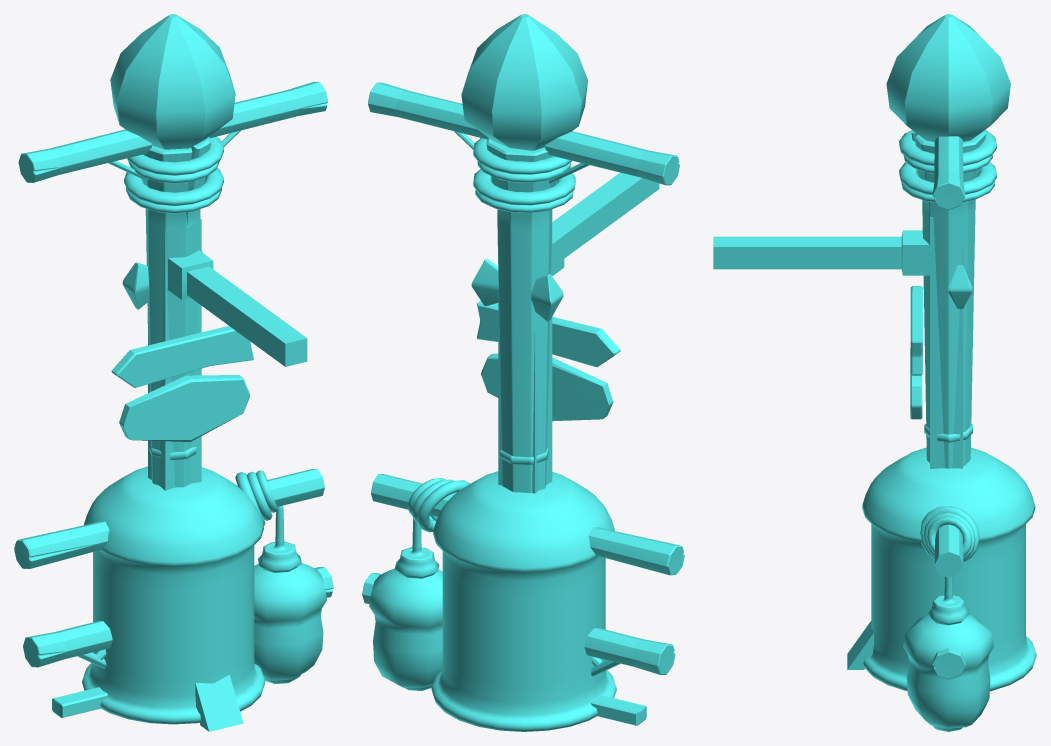
File: Poles and lamps.fbx
3 views of the same model, side by side, from view 1: azimuth 30°, elevation 25°; view 2: azimuth 150°, elevation 25°; view 3: azimuth 270°, elevation 25° (orthographic). The views are drawn at different scales.
Parts seen in each view (by area): view 1: POLL5, LAMP_01, LAMP_03, POLE_02, POLES_ARM, POLE_04, POLES_ARMS; view 2: POLL5, LAMP_01, LAMP_03, POLE_02, POLES_ARM, POLE_04, POLES_ARMS; view 3: POLL5, LAMP_01, POLE_02, LAMP_03, POLE_04, POLES_ARM.
Part boxes in pixels (box(x1,y1,x2,y2)): POLL5: box(18, 14, 328, 487); LAMP_01: box(82, 466, 265, 724); LAMP_03: box(14, 468, 326, 683); POLE_02: box(148, 219, 307, 731); POLES_ARM: box(23, 567, 333, 668); POLE_04: box(122, 251, 202, 459); POLES_ARMS: box(52, 687, 107, 717); POLL5: box(368, 14, 679, 493); LAMP_01: box(431, 471, 616, 731); LAMP_03: box(369, 474, 684, 690); POLE_02: box(498, 172, 659, 493); POLES_ARM: box(362, 573, 675, 676); POLE_04: box(471, 258, 563, 464); POLES_ARMS: box(590, 694, 646, 725); POLL5: box(886, 14, 1010, 468); LAMP_01: box(862, 447, 1036, 691); POLE_02: box(713, 217, 962, 669); LAMP_03: box(903, 506, 993, 731); POLE_04: box(924, 265, 973, 442); POLES_ARM: box(932, 648, 965, 679).
Bounding box in the file's own units: 120 × 262 × 116.
